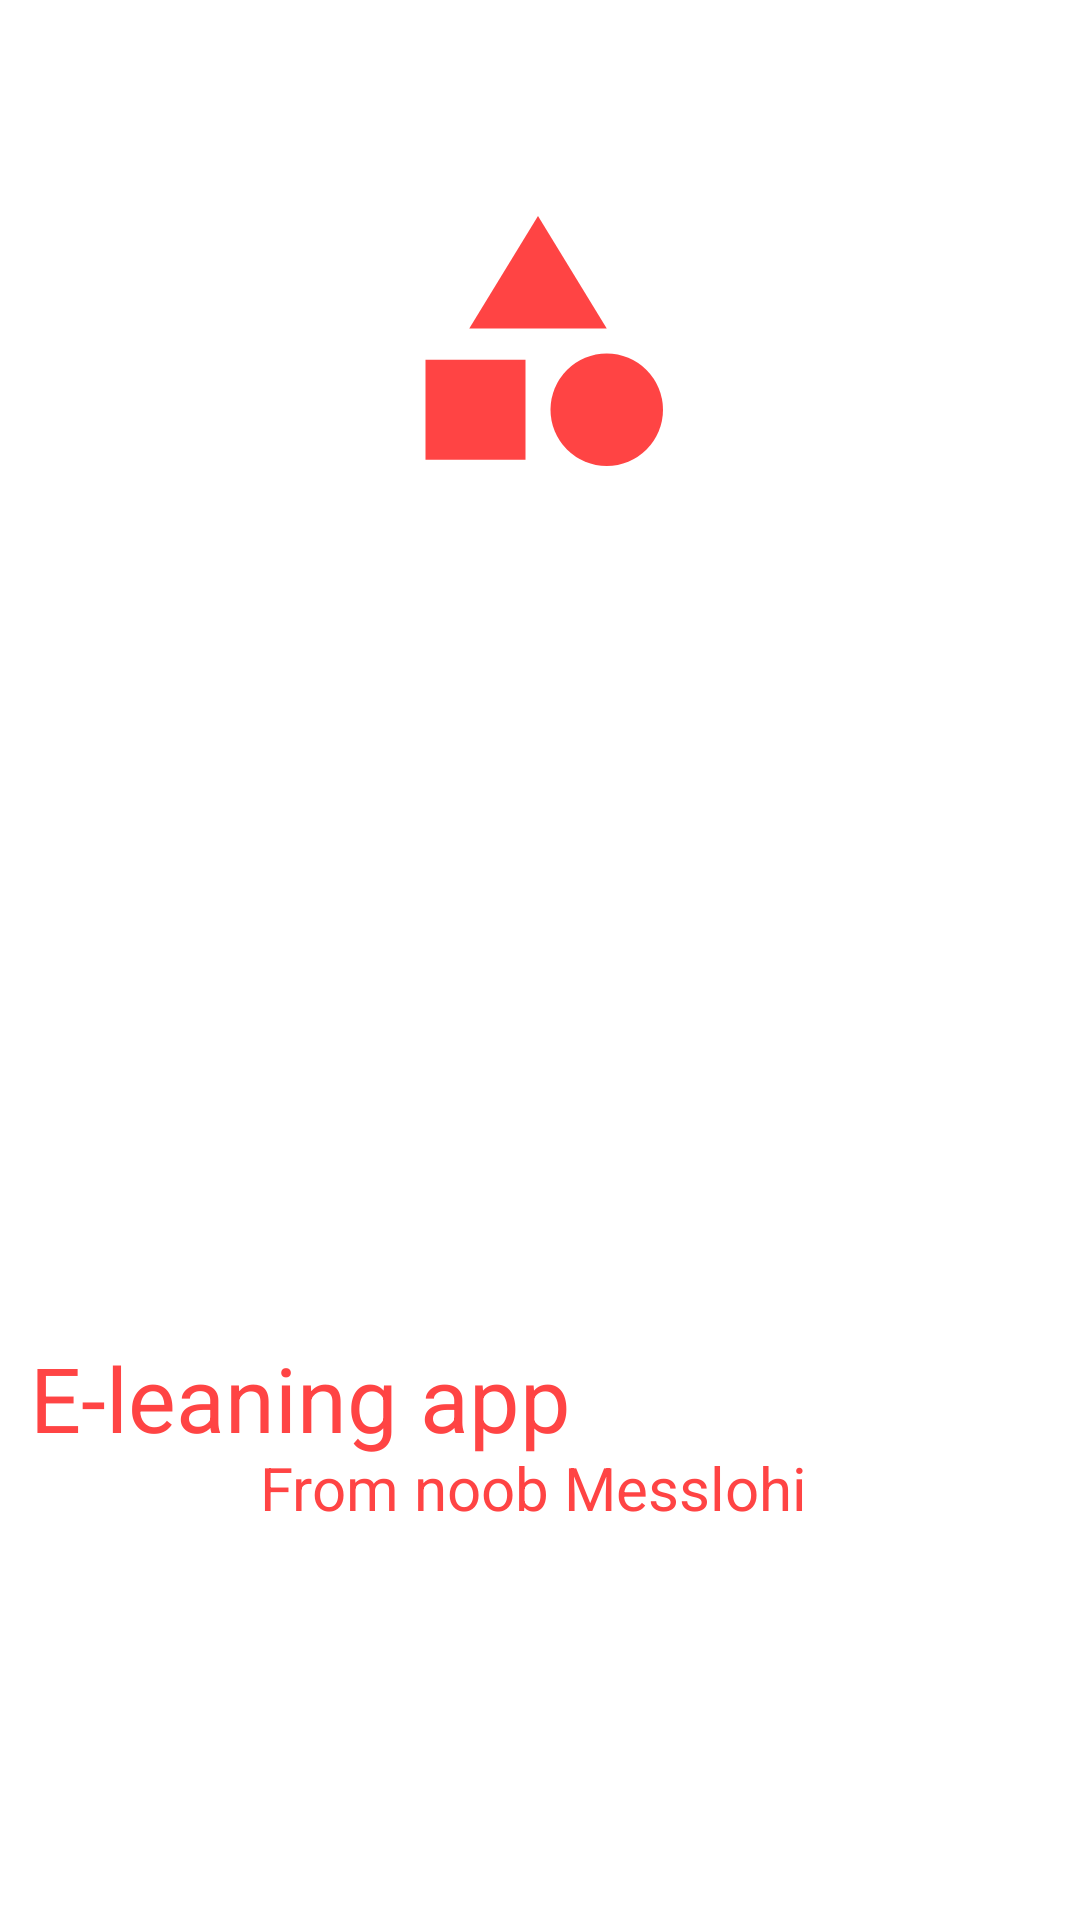

Point at icon controls on the screen. Image size 1080x1920, points as [x,y].
category: [544,341]
